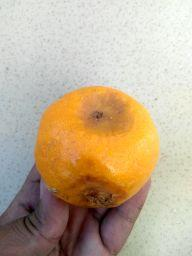Unripe: (36, 84, 159, 208)
